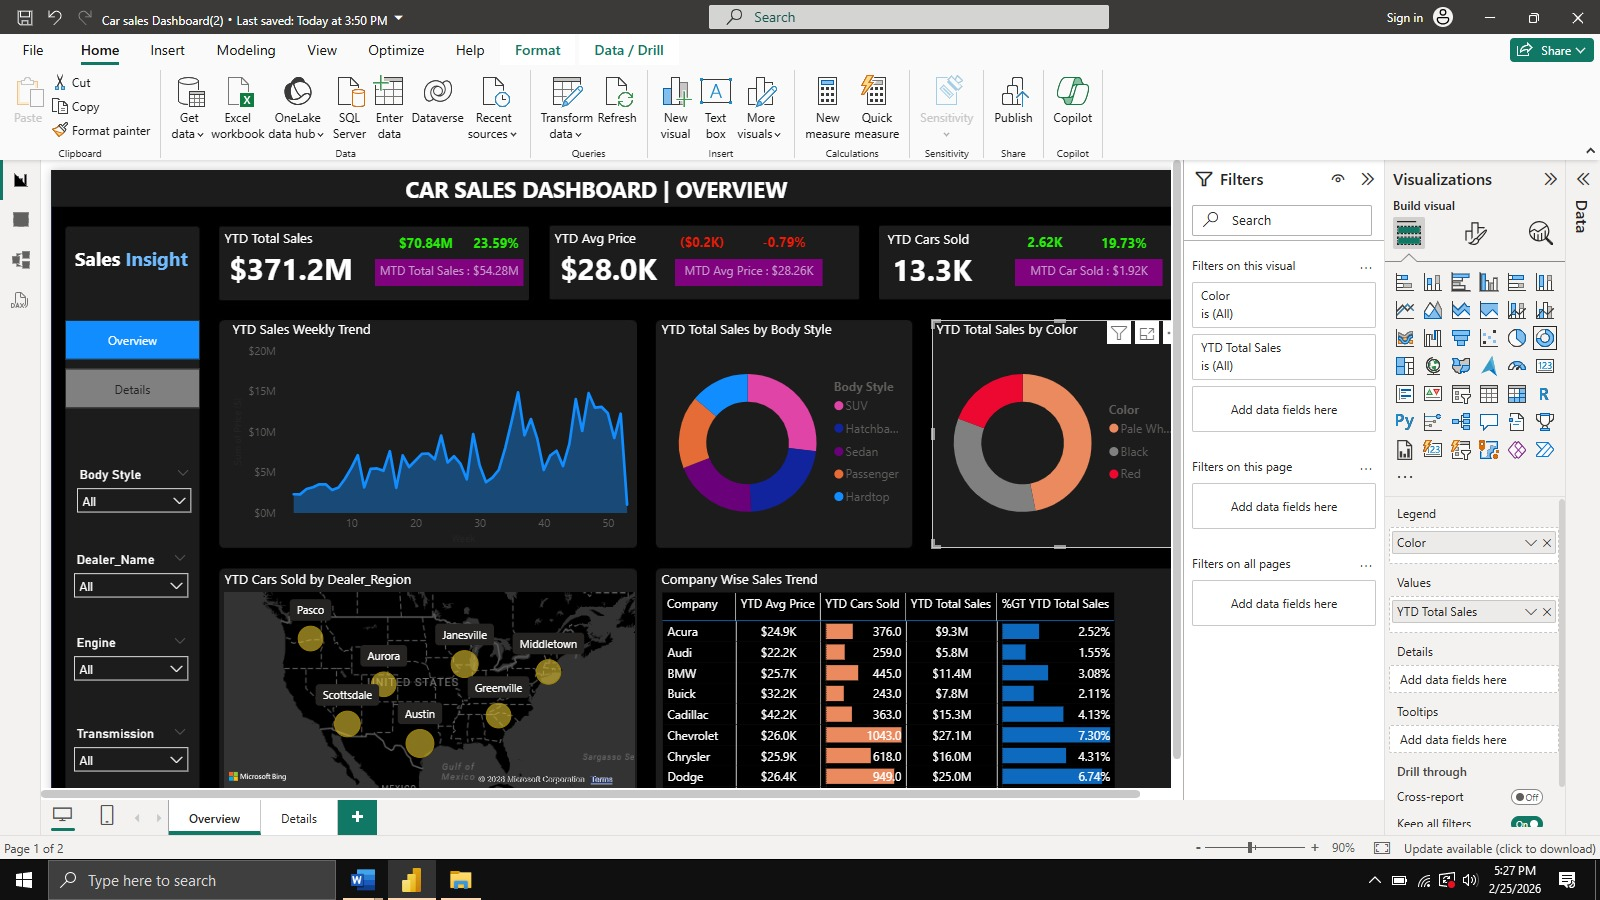

The page's visual inventory and layout, read from the dashboard file:
{"tool":"powerbi","page":{"name":"Overview","canvas":[1280,720],"ordinal":0},"visuals":[{"type":"card","title":"YTD Total Sales","fields":{"Values":["car_data.YTD Total Sales"]},"box":[188,65,158,68],"z":0},{"type":"card","fields":{"Values":["car_data.Sales Difference"]},"box":[378,67,78,34],"z":1},{"type":"card","fields":{"Values":["car_data.YoY Sales Growth"]},"box":[456,67,78,34],"z":2},{"type":"card","fields":{"Values":["car_data.MTD KPI"]},"box":[360,99,165,30],"z":3},{"type":"card","title":"YTD Avg Price","fields":{"Values":["car_data.YTD Avg Price"]},"box":[554,65,130,68],"z":4},{"type":"card","fields":{"Values":["car_data.Avg Price Diff"]},"box":[684,65,78,34],"z":5},{"type":"card","fields":{"Values":["car_data.YoY Avg Price Growth"]},"box":[776,65,78,34],"z":6},{"type":"card","fields":{"Values":["car_data.MTD Avg Price KPI"]},"box":[693.3,98.9,164.4,30],"z":7},{"type":"card","title":"YTD Cars Sold","fields":{"Values":["car_data.YTD Cars Sold"]},"box":[924.4,66.7,108.9,67.8],"z":8},{"type":"card","fields":{"Values":["car_data.Cars Sold Diff"]},"box":[1065.6,64.4,77.8,34.4],"z":9},{"type":"card","fields":{"Values":["car_data.YoY Car Sold Growth"]},"box":[1153.3,65.6,77.8,34.4],"z":10},{"type":"card","fields":{"Values":["car_data.MTD Car Sold KPI"]},"box":[1071.1,98.9,164.4,30],"z":11},{"type":"areaChart","title":"YTD Sales Weekly Trend","fields":{"Category":["Calendar Table.Week"],"Y":["Sum(car_data.Price ($))"]},"box":[196.7,166.7,465.6,253.3],"z":12},{"type":"donutChart","fields":{"Category":["car_data.Body Style"],"Y":["car_data.YTD Total Sales"]},"box":[673.3,166.7,284.4,253.3],"z":13},{"type":"donutChart","fields":{"Category":["car_data.Color"],"Y":["car_data.YTD Total Sales"]},"box":[978.9,166.7,284.4,253.3],"z":14},{"type":"map","fields":{"Category":["car_data.Dealer_Region"],"Size":["car_data.YTD Cars Sold"]},"box":[187.8,444.4,465.6,248.9],"z":15},{"type":"tableEx","title":"Company Wise Sales Trend","fields":{"Values":["car_data.Company","car_data.YTD Avg Price","car_data.YTD Cars Sold","car_data.YTD Total Sales1","car_data.YTD Total Sales"]},"box":[673.3,444.4,590,248.9],"z":16},{"type":"textbox","box":[388.9,0,460,45.6],"z":17},{"type":"slicer","fields":{"Values":["car_data.Body Style"]},"box":[18.9,325.6,146.7,68.9],"z":18},{"type":"slicer","fields":{"Values":["car_data.Dealer_Name"]},"box":[15.6,420,146.7,70],"z":19},{"type":"slicer","fields":{"Values":["car_data.Engine"]},"box":[15.6,512.2,146.7,70],"z":20},{"type":"slicer","fields":{"Values":["car_data.Transmission"]},"box":[15.6,613.3,146.7,70],"z":21},{"type":"textbox","box":[15.6,78.9,150,54.4],"z":22},{"type":"pageNavigator","box":[15.6,166.7,150,98.9],"z":23}]}

Visuals, with their boxes on the page's 1280x720 design canvas (x1, y1, x2, y2). These are canvas units, not pixel positions in the 1600x900 screenshot, which may show the page scaled, cropped or inside an application window:
"YTD Total Sales" card: bbox=(188, 65, 346, 133)
card - car_data.Sales Difference: bbox=(378, 67, 456, 101)
card - car_data.YoY Sales Growth: bbox=(456, 67, 534, 101)
card - car_data.MTD KPI: bbox=(360, 99, 525, 129)
"YTD Avg Price" card: bbox=(554, 65, 684, 133)
card - car_data.Avg Price Diff: bbox=(684, 65, 762, 99)
card - car_data.YoY Avg Price Growth: bbox=(776, 65, 854, 99)
card - car_data.MTD Avg Price KPI: bbox=(693, 99, 858, 129)
"YTD Cars Sold" card: bbox=(924, 67, 1033, 134)
card - car_data.Cars Sold Diff: bbox=(1066, 64, 1143, 99)
card - car_data.YoY Car Sold Growth: bbox=(1153, 66, 1231, 100)
card - car_data.MTD Car Sold KPI: bbox=(1071, 99, 1236, 129)
"YTD Sales Weekly Trend" areaChart: bbox=(197, 167, 662, 420)
donutChart - car_data.Body Style x car_data.YTD Total Sales: bbox=(673, 167, 958, 420)
donutChart - car_data.Color x car_data.YTD Total Sales: bbox=(979, 167, 1263, 420)
map - car_data.Dealer_Region x car_data.YTD Cars Sold: bbox=(188, 444, 653, 693)
"Company Wise Sales Trend" tableEx: bbox=(673, 444, 1263, 693)
textbox: bbox=(389, 0, 849, 46)
slicer - car_data.Body Style: bbox=(19, 326, 166, 394)
slicer - car_data.Dealer_Name: bbox=(16, 420, 162, 490)
slicer - car_data.Engine: bbox=(16, 512, 162, 582)
slicer - car_data.Transmission: bbox=(16, 613, 162, 683)
textbox: bbox=(16, 79, 166, 133)
pageNavigator: bbox=(16, 167, 166, 266)
